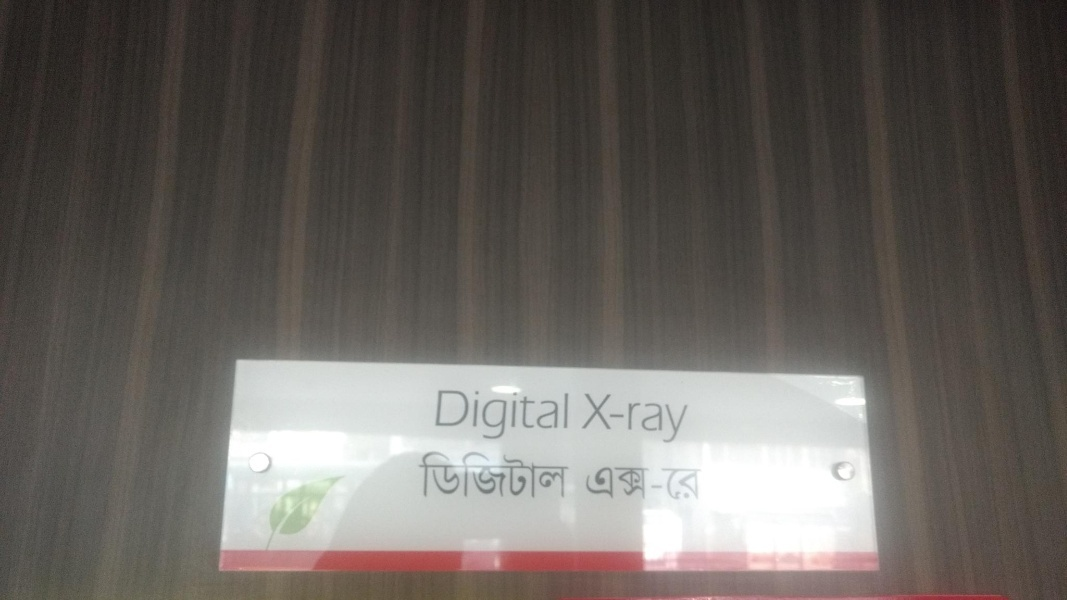text: (449, 387, 464, 445), (465, 387, 480, 445), (481, 387, 496, 445), (497, 387, 512, 445), (513, 387, 528, 445), (529, 387, 544, 445), (545, 387, 560, 445), (593, 392, 608, 447), (609, 392, 624, 447), (625, 392, 640, 447), (641, 392, 656, 447), (657, 392, 672, 447), (673, 392, 688, 447), (433, 452, 448, 504), (449, 452, 464, 504), (465, 452, 480, 504), (481, 452, 496, 504), (497, 452, 512, 504), (513, 452, 528, 504), (529, 452, 544, 504), (545, 452, 560, 504), (578, 392, 592, 447), (561, 387, 573, 445), (419, 452, 432, 504), (438, 387, 448, 445), (593, 465, 608, 501), (609, 465, 624, 501), (625, 465, 640, 501), (641, 465, 656, 501), (657, 465, 672, 501), (673, 465, 688, 501), (689, 465, 703, 501), (689, 392, 696, 447), (561, 452, 568, 504), (585, 465, 592, 501)
